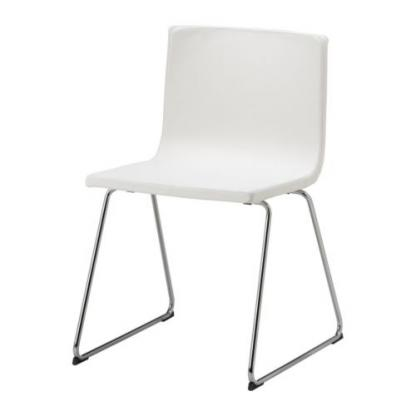Chair: (66, 21, 345, 394)
